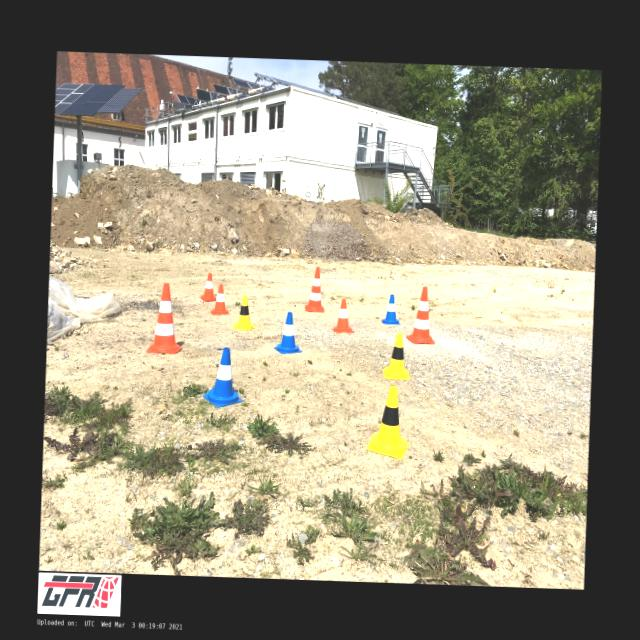blue_cone: (202, 347, 244, 408), (273, 311, 303, 354), (381, 294, 401, 324)
large_orange_cone: (146, 282, 184, 354), (406, 286, 436, 344), (304, 266, 326, 312)
orange_cone: (330, 298, 354, 334), (208, 284, 230, 314), (200, 272, 217, 301)
yellow_cone: (366, 385, 410, 460), (382, 332, 411, 379), (232, 294, 256, 330)
